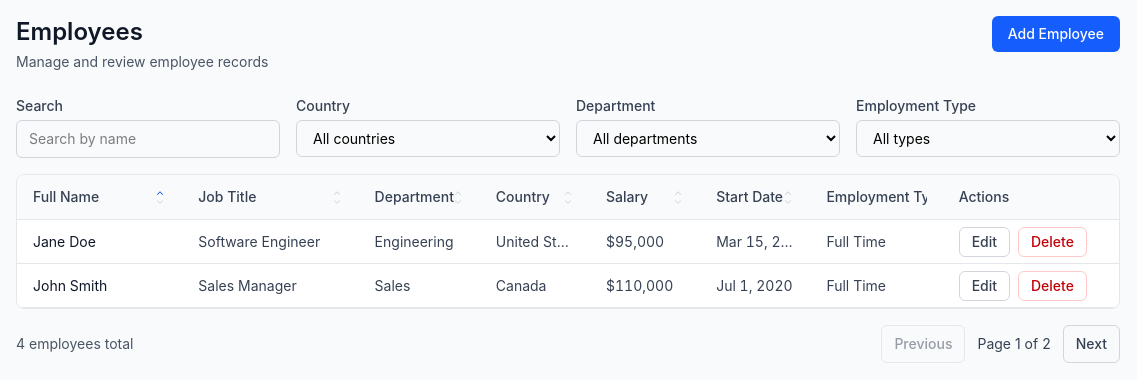
EmployeeList › fetches page 1 when previous page is clicked
Expected: the cell "Jane Doe" is shown, 17,220 -> 182,264
Click the button "Next" at {"x": 1091, "y": 344}, box 1063,325 -> 1120,363
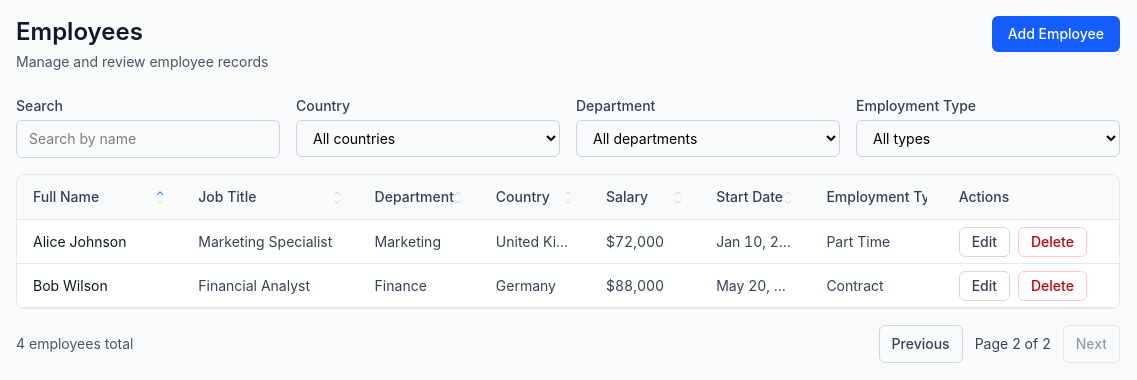
Expected: the cell "Alice Johnson" is shown, 17,220 -> 182,264
Click the button "Previous" at {"x": 921, "y": 344}, box 878,325 -> 963,363
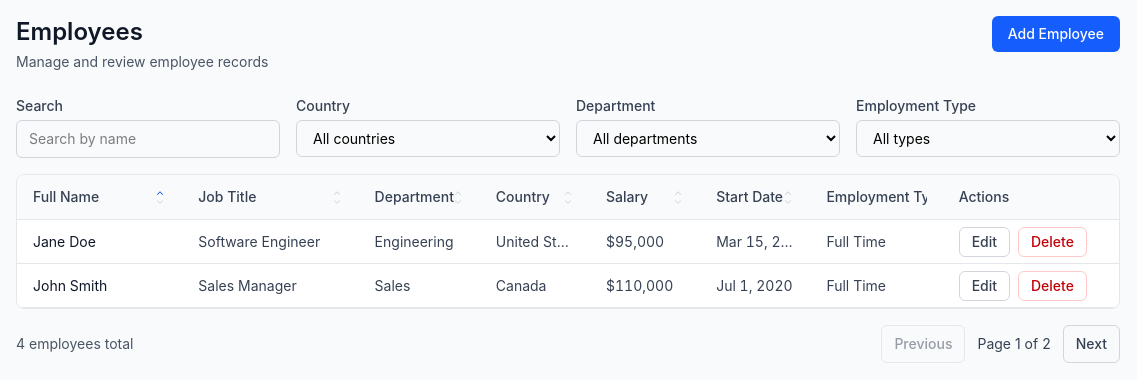
Expected: the cell "Jane Doe" is shown, 17,220 -> 182,264
Expected: the text "Page 1 of 2" is shown, 978,334 -> 1051,354
